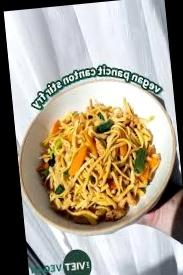pancit bihon: (44, 105, 158, 225)
